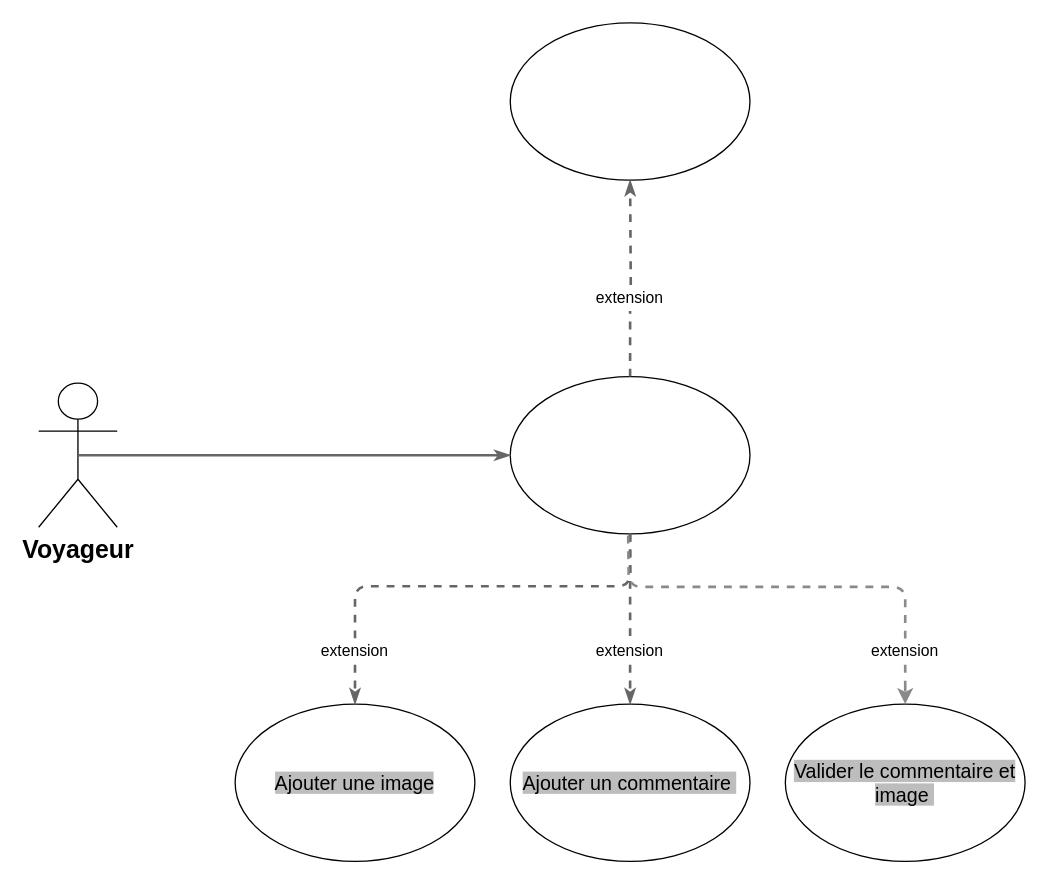
The diagram is 1048 pixels wide and 884 high, and some of its shapes have lost their labels. Each missing label, with the box of its shape:
Laisser un commentaire: (509, 375, 750, 534)
Visuliser commentaire autre voyageur: (509, 22, 750, 180)
